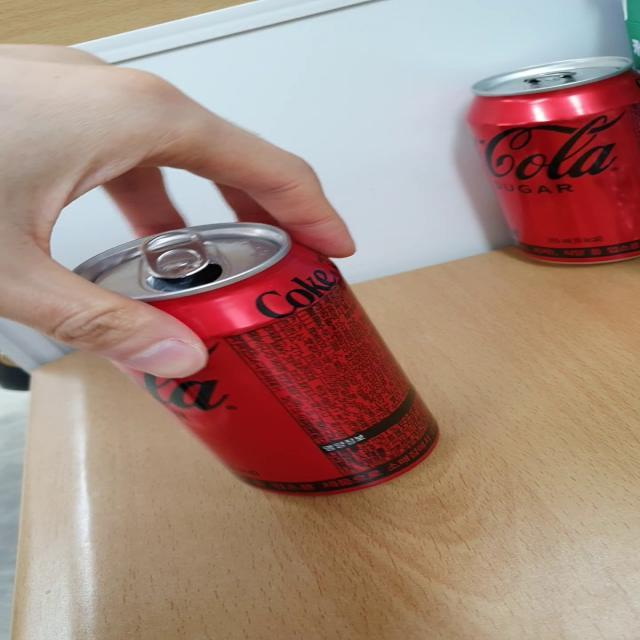coca-cola: (66, 218, 474, 487), (460, 49, 640, 278)
